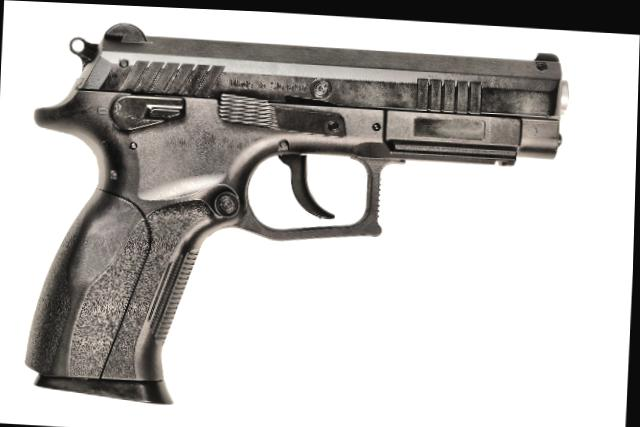pistol: (24, 16, 572, 420)
